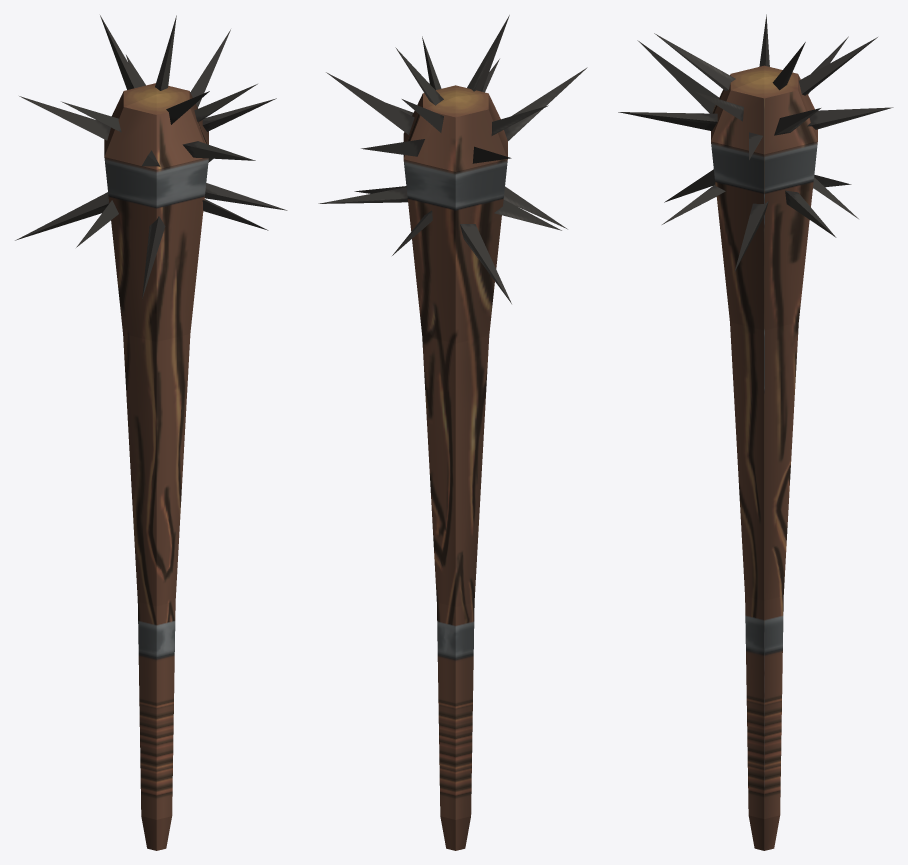
Rendered from w_cudgel_2.FBX.
The picture shows the model from 3 angles, left to right: view 1: azimuth 30°, elevation 25°; view 2: azimuth 150°, elevation 25°; view 3: azimuth 270°, elevation 25°; orthographic projection. The views are drawn at different scales.
Visible parts, largest first — view 1: w_cudgel1; view 2: w_cudgel1; view 3: w_cudgel1.
Part boxes in pixels (x1,y1,x2,y2): w_cudgel1: (15,15,287,850); w_cudgel1: (318,15,587,850); w_cudgel1: (618,14,893,850).
Size of the model in its own units: 19.75 by 70.27 by 21.37.
